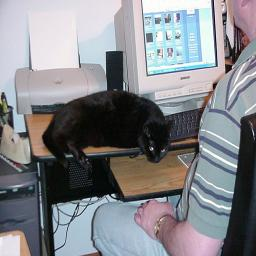catnose: (154, 154, 160, 163)
